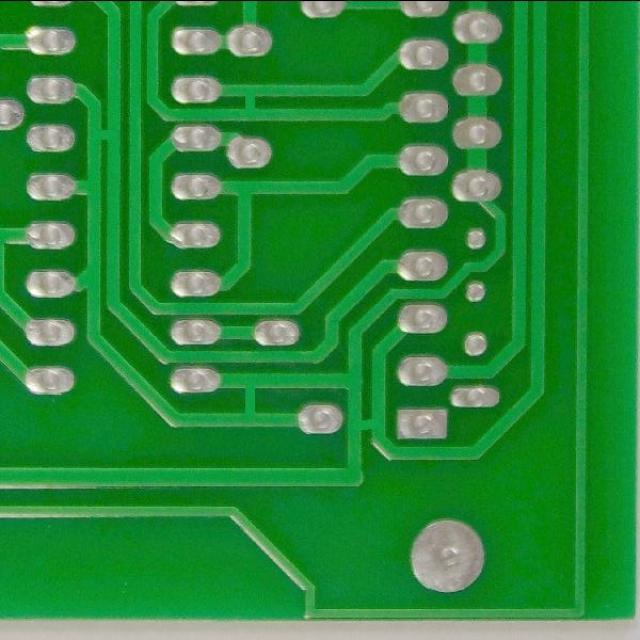Short_Circuit: (229, 366, 272, 434), (232, 77, 269, 127), (344, 408, 392, 442), (82, 120, 125, 154)
